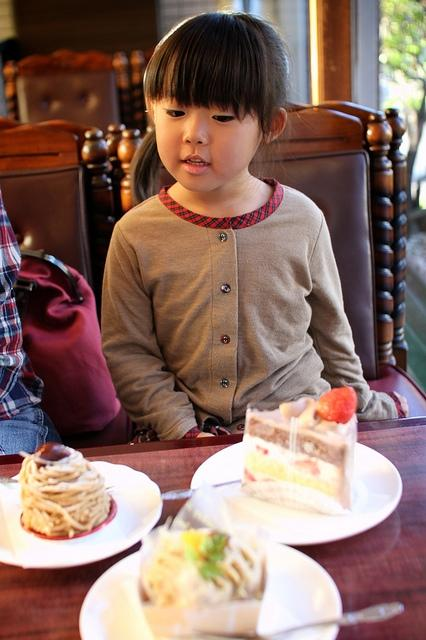strawberry: (317, 386, 358, 424), (244, 466, 256, 482), (256, 445, 268, 454)
